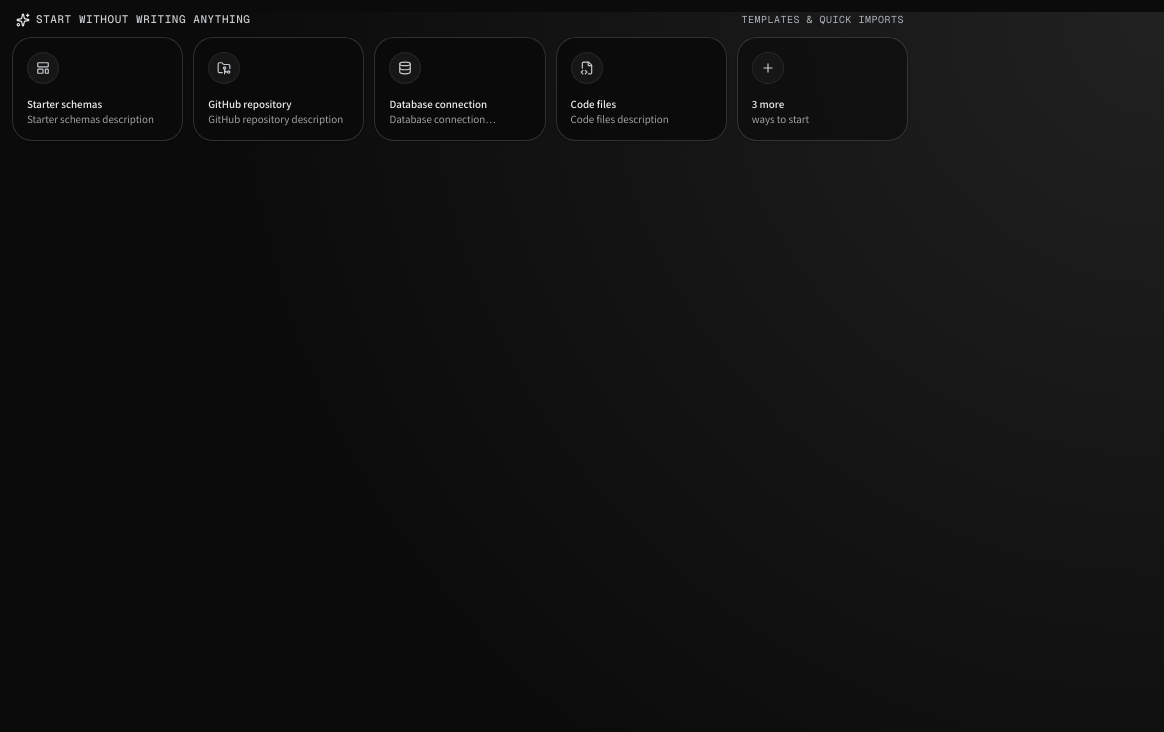
Test: SourceStrip › reveals the remaining sources when the overflow is opened
Click the button "3 more ways to start": click(822, 89) [737,37,908,141]
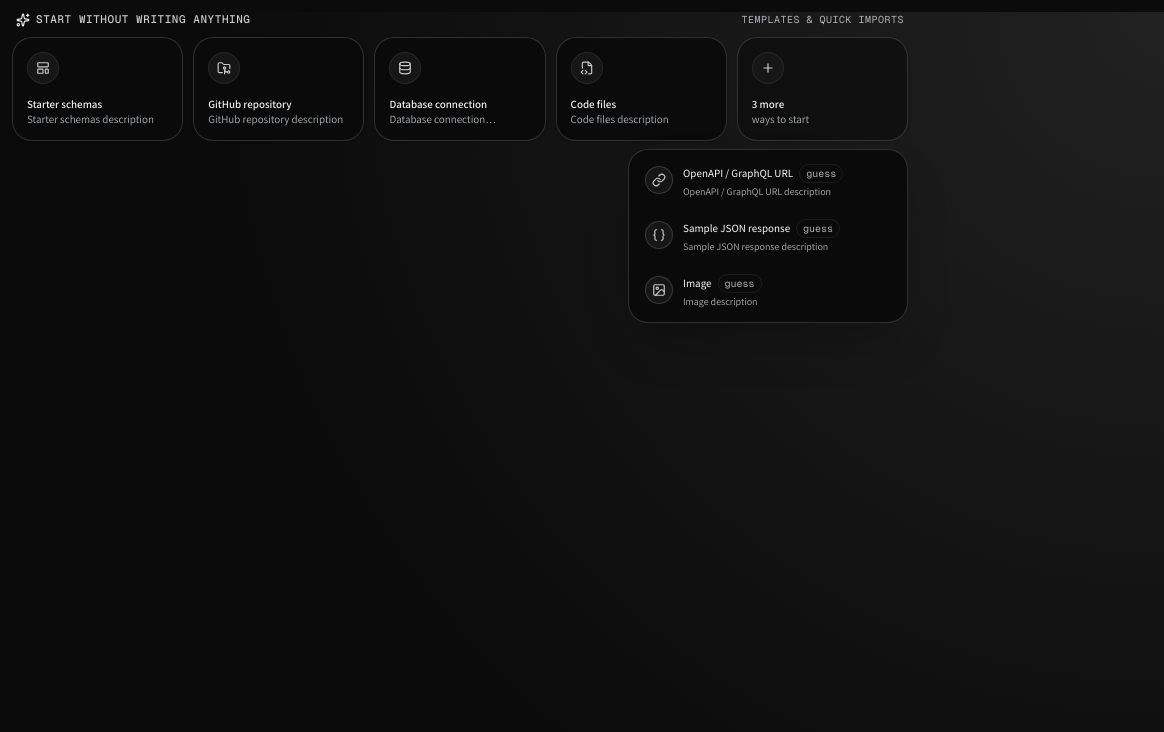
Result: the text "Sample JSON response" is shown at [683,221,790,236]
Result: the text "Image" is shown at [683,276,712,290]
